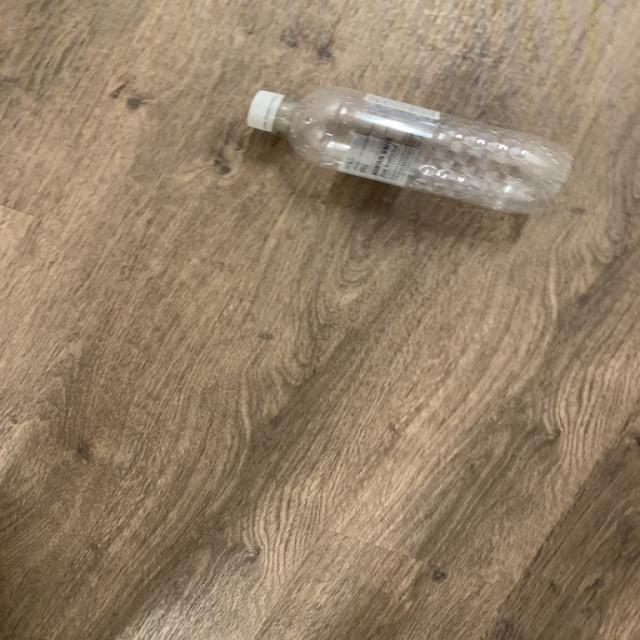Waste: (248, 87, 574, 212)
